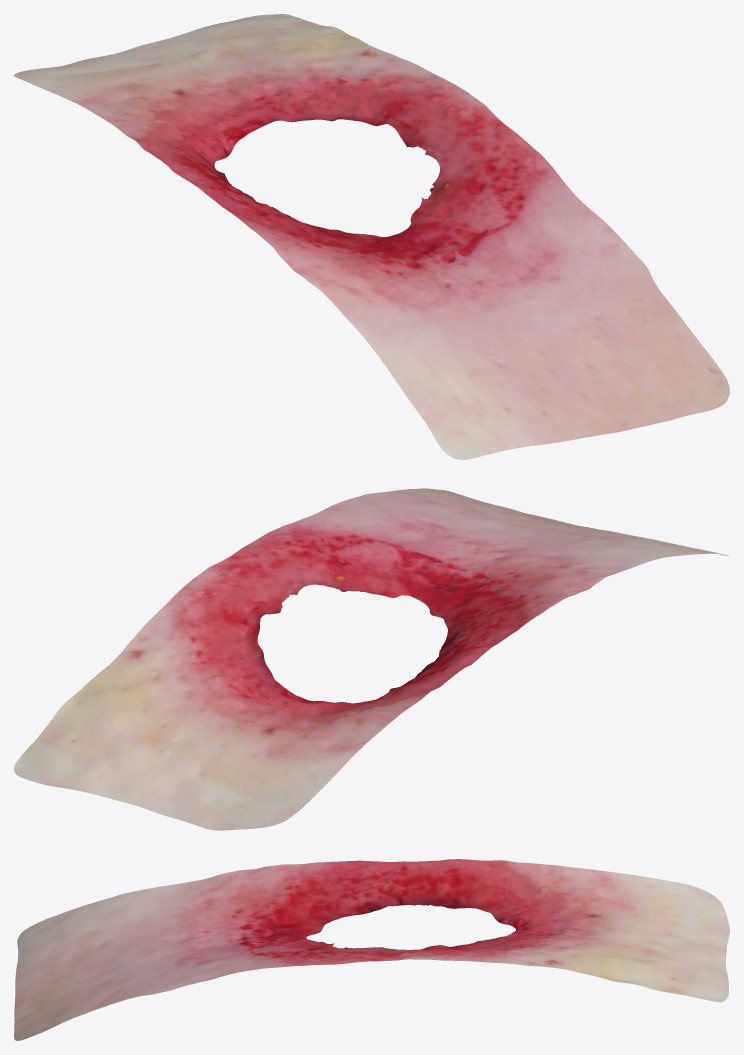
Rendered from StomaMaceracijaRauksle.fbx.
The picture shows the model from 3 angles, top to bottom: view 1: azimuth 30°, elevation 25°; view 2: azimuth 150°, elevation 25°; view 3: azimuth 270°, elevation 25°; orthographic projection. The views are drawn at different scales.
Parts seen in each view (by area): view 1: StomaMaceracijaRauksle; view 2: StomaMaceracijaRauksle; view 3: StomaMaceracijaRauksle.
Part boxes in pixels (x1=…): StomaMaceracijaRauksle: x1=14, y1=14, x2=729, y2=459; StomaMaceracijaRauksle: x1=14, y1=488, x2=729, y2=830; StomaMaceracijaRauksle: x1=14, y1=859, x2=729, y2=1040.
Bounding box in the file's own units: 77.77 × 29.16 × 215.
1 material, 1 textured.
